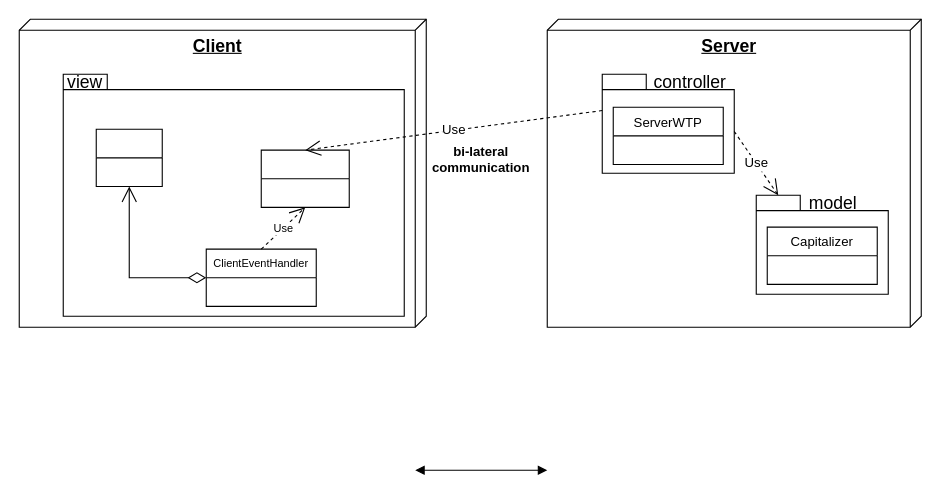
Some shapes in this 941 by 499 pixel diagram are drawn without their labels. The shapes that lost their labels are listed below. From the top down, each one's centre as x and y in pixels, then its label:
At [128,157]: "ClientView".
At [304,178]: "ClientController".
